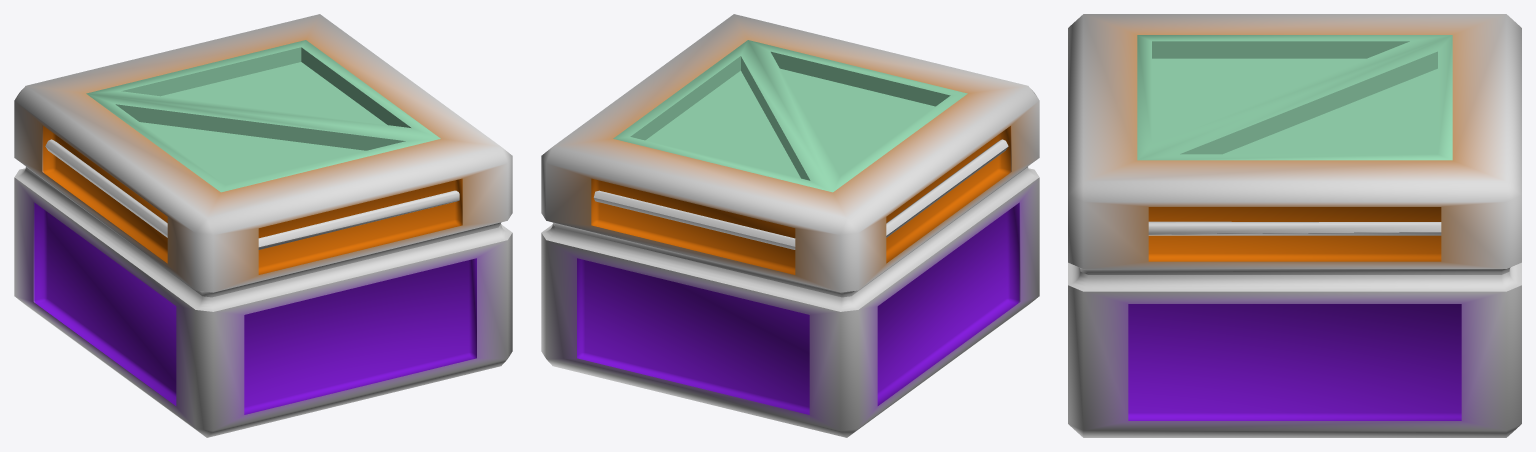
3 views of the same model, side by side, from view 1: azimuth 30°, elevation 25°; view 2: azimuth 150°, elevation 25°; view 3: azimuth 270°, elevation 25° (orthographic). The views are drawn at different scales.
Visible parts, largest first — view 1: export_uv_wireframe1; view 2: export_uv_wireframe1; view 3: export_uv_wireframe1.
Part boxes in pixels (x1,y1,x2,y2): export_uv_wireframe1: [14, 14, 512, 437]; export_uv_wireframe1: [541, 14, 1039, 437]; export_uv_wireframe1: [1068, 14, 1521, 437].
Bounding box in the file's own units: 1.13 × 0.7481 × 1.2.
